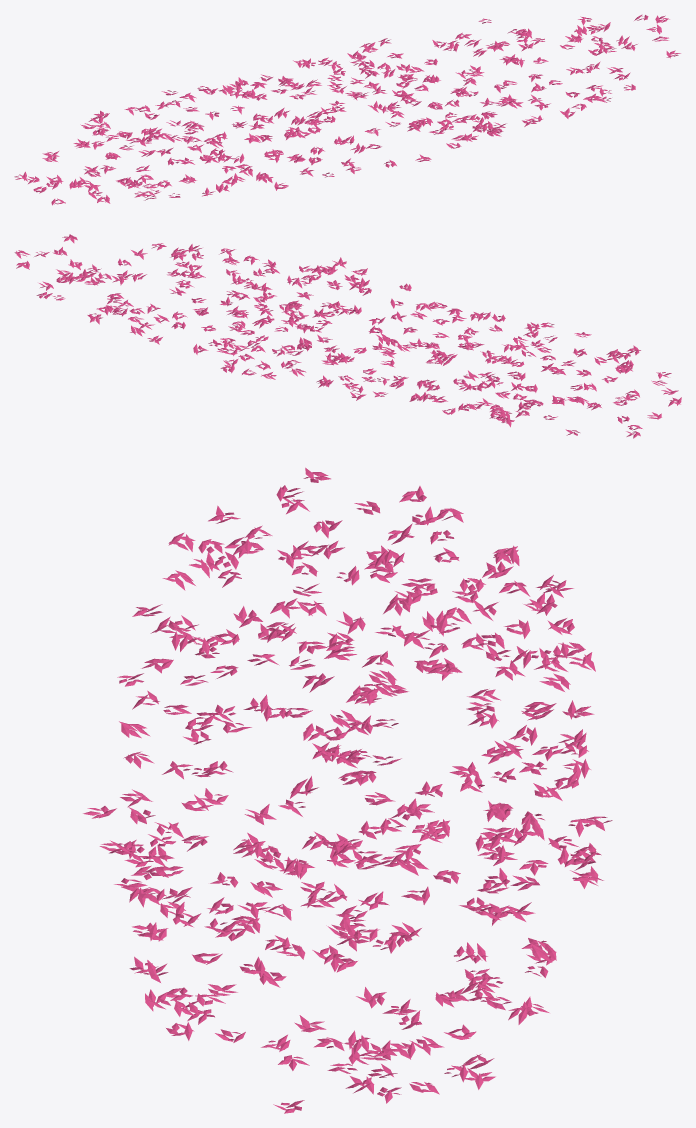
The model's file is xiyuan-vegetation-07-near.glb.
3 renders of one model, top to bottom at view 1: azimuth 30°, elevation 25°; view 2: azimuth 150°, elevation 25°; view 3: azimuth 270°, elevation 25°, orthographic. The views are drawn at different scales.
Parts seen in each view (by area): view 1: pink flowers; view 2: pink flowers; view 3: pink flowers.
Part boxes in pixels (<box>): pink flowers: <box>14,14,680,205</box>; pink flowers: <box>14,234,681,438</box>; pink flowers: <box>83,467,612,1113</box>.
Bounding box in the file's own units: 6.81 × 0.2774 × 2.43.
